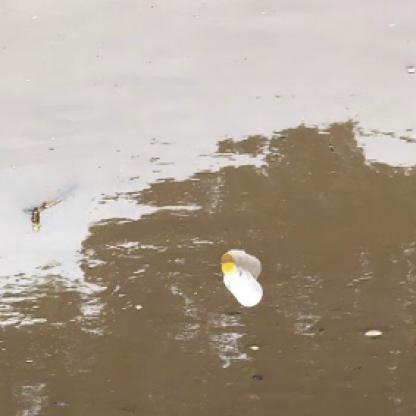Plastic: (217, 256, 266, 312)
